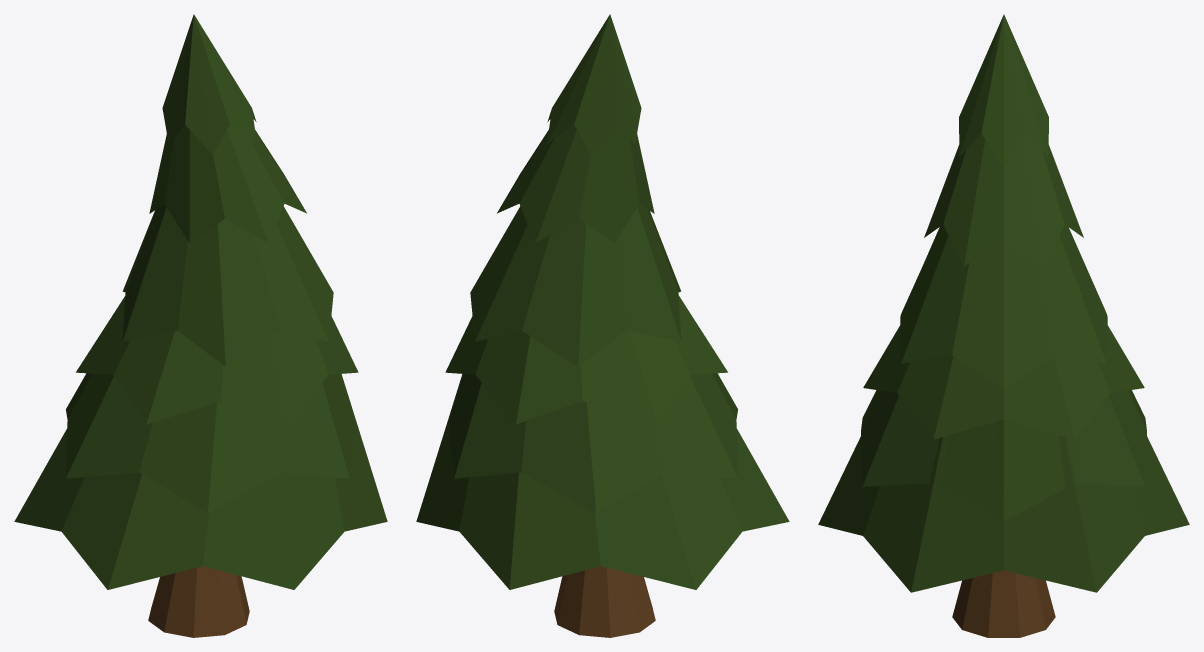
Rendered from tree3.fbx.
3 views of the same model, side by side, from view 1: azimuth 30°, elevation 25°; view 2: azimuth 150°, elevation 25°; view 3: azimuth 270°, elevation 25° (orthographic).
Parts seen in each view (by area): view 1: Cylinder.004; view 2: Cylinder.004; view 3: Cylinder.004.
Boxes of the visible parts, bbox=[...] form: Cylinder.004: bbox=[14, 14, 387, 637]; Cylinder.004: bbox=[416, 14, 789, 637]; Cylinder.004: bbox=[818, 14, 1189, 637].
Bounding box in the file's own units: 642 × 1281 × 718.
